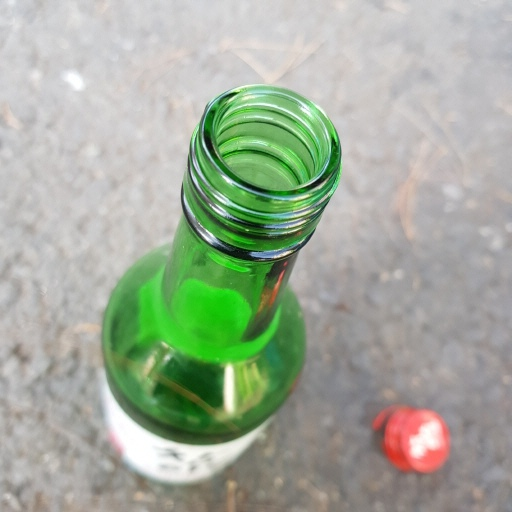Glass_0: (90, 84, 342, 489)
